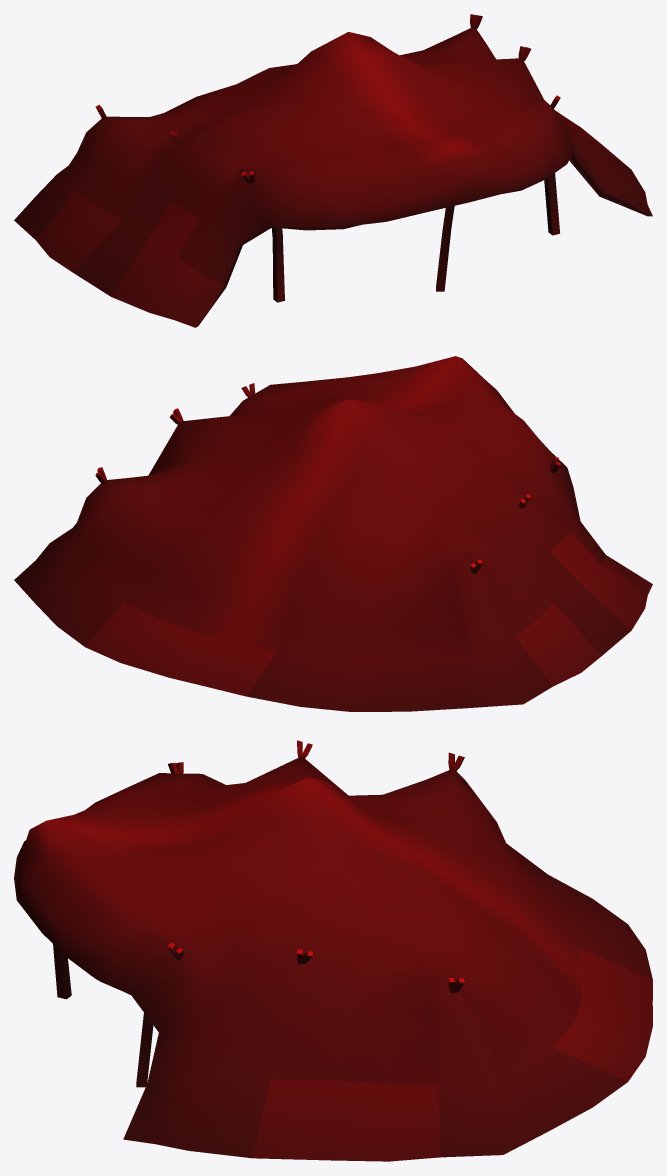
Rendered from buildings-tents-bedouintent_v1.fbx.
3 renders of one model, top to bottom at view 1: azimuth 30°, elevation 25°; view 2: azimuth 150°, elevation 25°; view 3: azimuth 270°, elevation 25°, orthographic. The views are drawn at different scales.
Parts seen in each view (by area): view 1: BedouinTent.001; view 2: BedouinTent.001; view 3: BedouinTent.001.
Boxes of the visible parts, left/top/right/bottom form: BedouinTent.001: left=14, top=14, right=652, bottom=327; BedouinTent.001: left=14, top=356, right=652, bottom=711; BedouinTent.001: left=14, top=740, right=652, bottom=1161.
Size of the model in its own units: 14.95 by 4.97 by 12.74.
